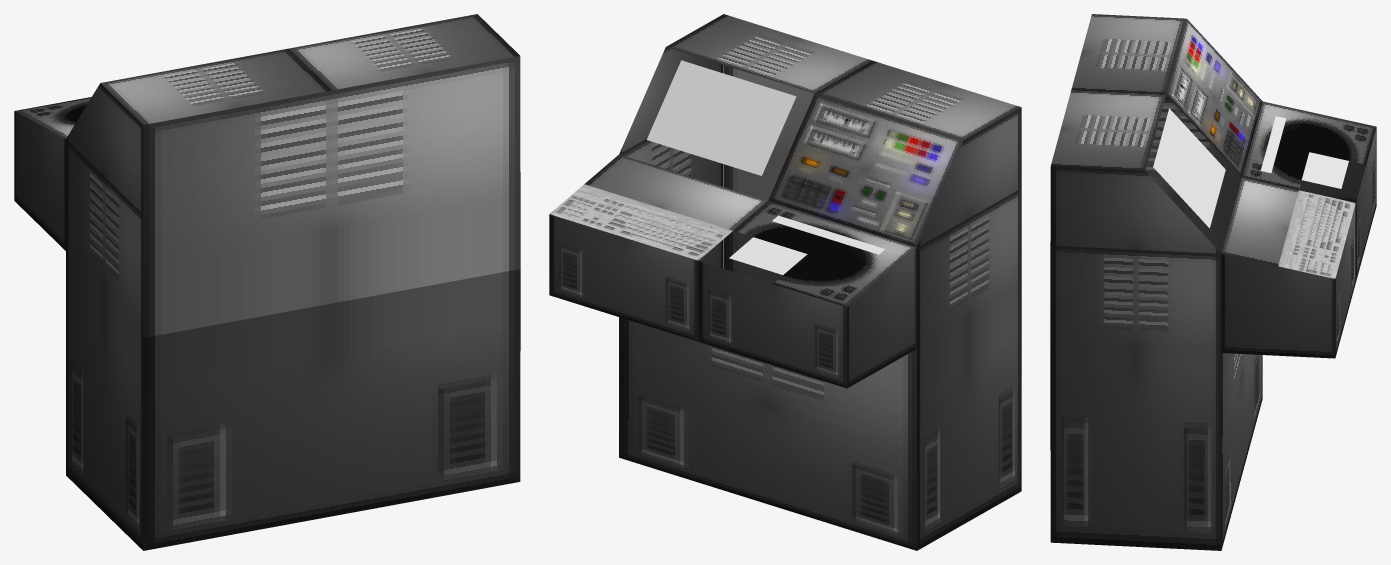
Rendered from primary_060.glb.
The picture shows the model from 3 angles, left to right: view 1: azimuth 30°, elevation 25°; view 2: azimuth 150°, elevation 25°; view 3: azimuth 270°, elevation 25°; orthographic projection. The views are drawn at different scales.
Visible parts, largest first — view 1: Object; view 2: Object; view 3: Object.
Part boxes in pixels (x1,y1,x2,y2): Object: (14,14,520,550); Object: (549,14,1021,550); Object: (1050,14,1376,550).
Size of the model in its own units: 1.19 by 1.25 by 0.9851.
23 materials, 23 textured.
